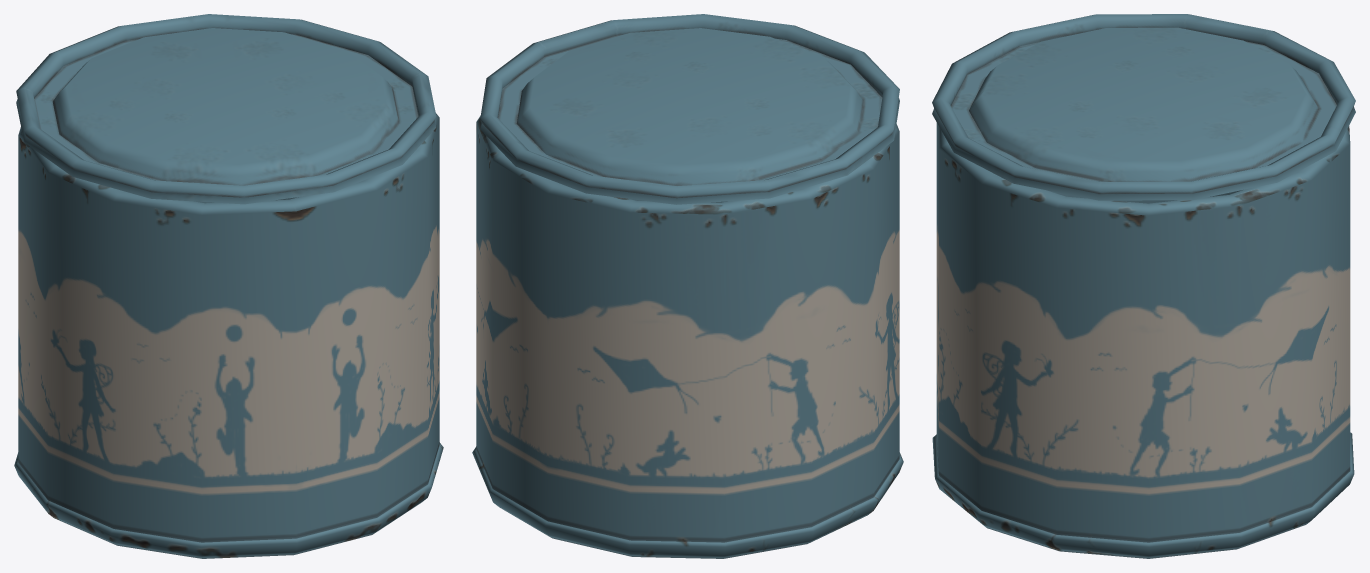
The model's file is ToyTin_Scaled.fbx.
3 views of the same model, side by side, from view 1: azimuth 30°, elevation 25°; view 2: azimuth 150°, elevation 25°; view 3: azimuth 270°, elevation 25° (orthographic).
Parts seen in each view (by area): view 1: Toytin2, ToyTin_Lid2; view 2: Toytin2, ToyTin_Lid2; view 3: Toytin2, ToyTin_Lid2.
Boxes of the visible parts, x1,y1,x2,y2 form: Toytin2: [14, 113, 443, 558]; ToyTin_Lid2: [16, 14, 436, 204]; Toytin2: [472, 116, 903, 558]; ToyTin_Lid2: [480, 14, 899, 204]; Toytin2: [932, 123, 1354, 558]; ToyTin_Lid2: [932, 14, 1355, 200].
Size of the model in its own units: 29.25 by 28.23 by 28.77.
